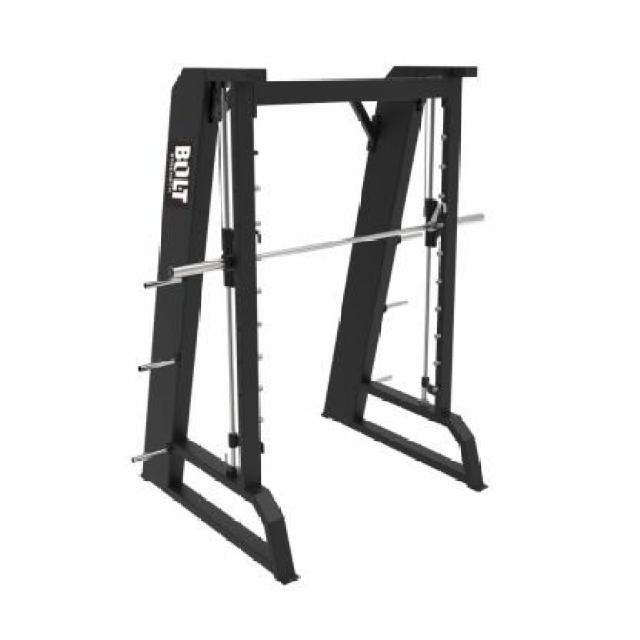smith machine: (132, 65, 491, 586)
